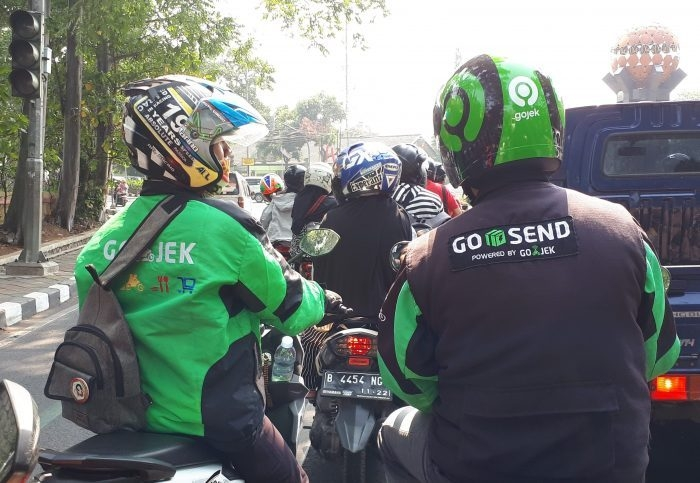plate: (323, 370, 389, 400)
